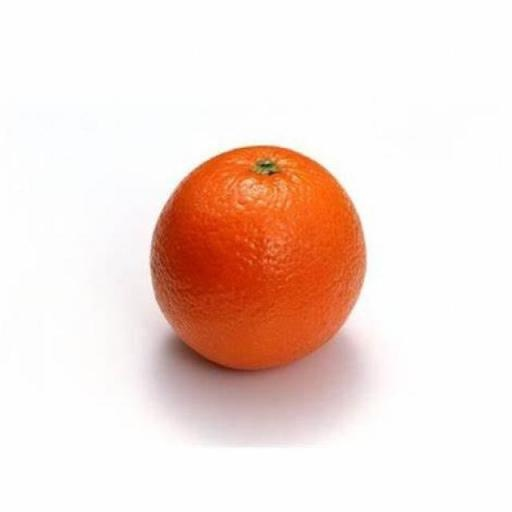fruit: (151, 147, 364, 369)
